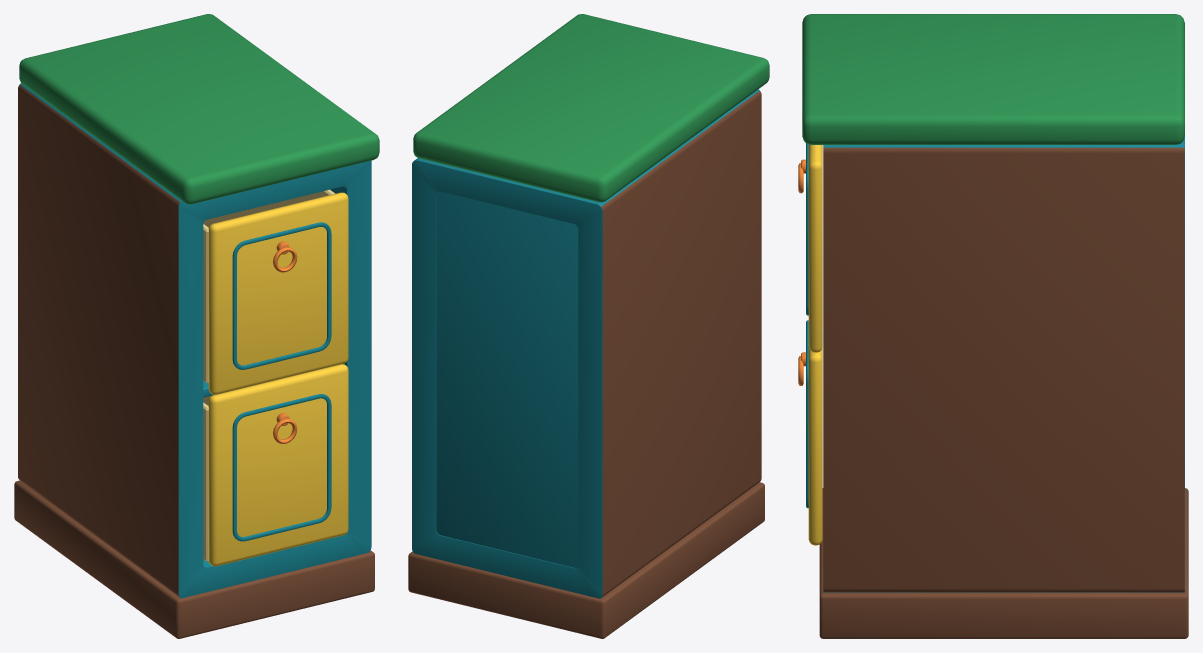
The model's file is gaveteiro_cozinha_2gavetas_colonial_mata.glb.
The picture shows the model from 3 angles, left to right: view 1: azimuth 30°, elevation 25°; view 2: azimuth 150°, elevation 25°; view 3: azimuth 270°, elevation 25°; orthographic projection. The views are drawn at different scales.
Parts seen in each view (by area): view 1: gaveteiro_cozinha_2gavetas_colonial_mata, gaveta_1, gaveta_2; view 2: gaveteiro_cozinha_2gavetas_colonial_mata; view 3: gaveteiro_cozinha_2gavetas_colonial_mata, gaveta_1, gaveta_2.
Boxes of the visible parts, <box> form: gaveteiro_cozinha_2gavetas_colonial_mata: <box>14,14,379,638</box>; gaveta_1: <box>203,189,348,394</box>; gaveta_2: <box>203,364,348,566</box>; gaveteiro_cozinha_2gavetas_colonial_mata: <box>408,14,769,638</box>; gaveteiro_cozinha_2gavetas_colonial_mata: <box>802,14,1188,638</box>; gaveta_1: <box>798,143,822,352</box>; gaveta_2: <box>798,320,822,545</box>.
Size of the model in its own units: 0.404 by 0.9 by 0.6112.
Materials: 1 (1 with a texture image).
